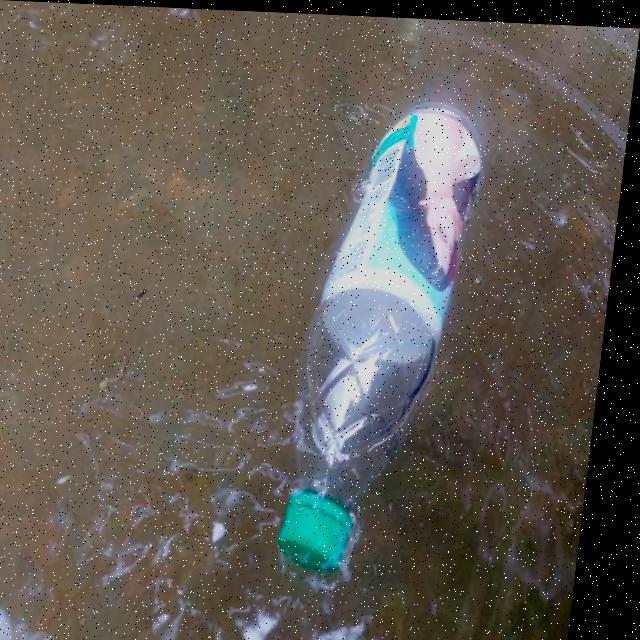waterbottle: (288, 90, 488, 577)
